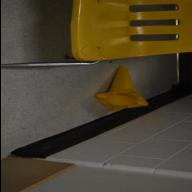cone: (92, 66, 148, 112)
